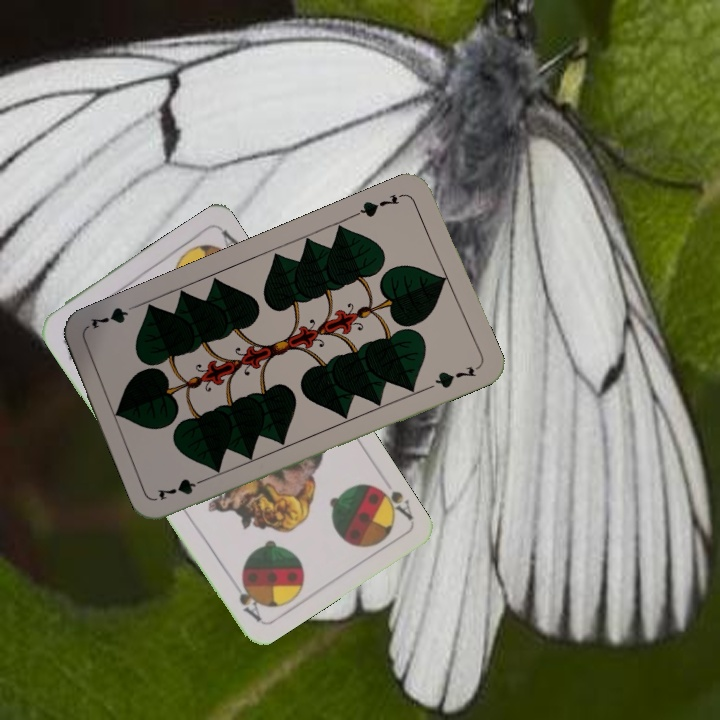G7: (154, 472, 212, 503), (351, 189, 408, 220)
SA: (366, 479, 416, 525)
